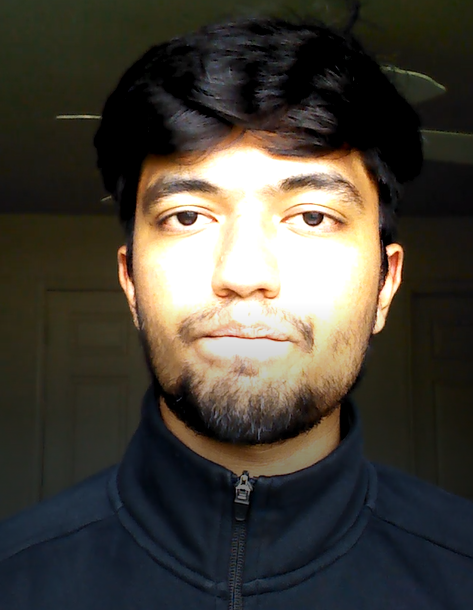Not Sleeping: (131, 173, 369, 257)
